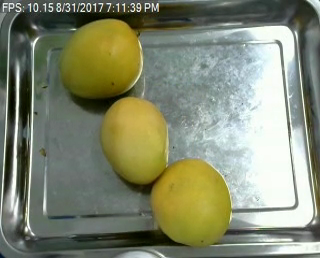Mango: (148, 157, 235, 248), (58, 17, 148, 102), (94, 96, 174, 186)
